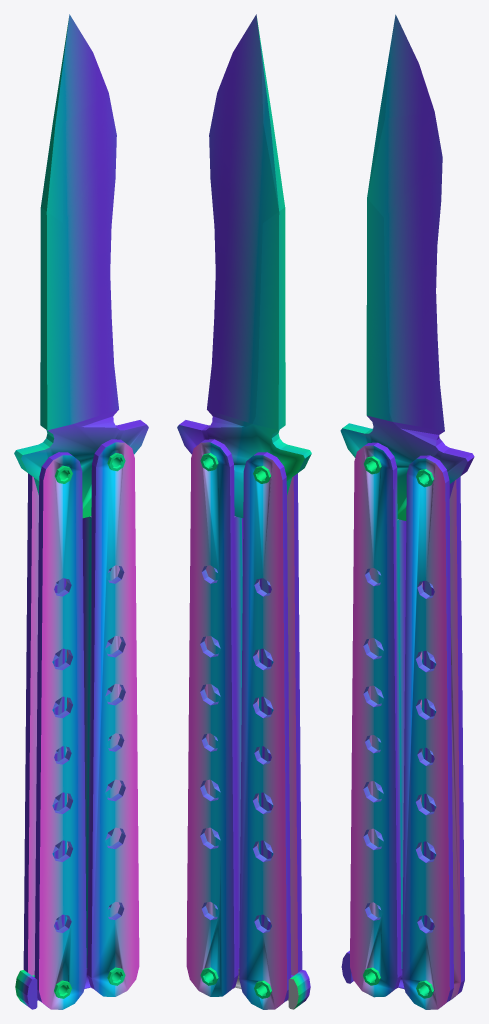
The model's file is butterfly.fbx.
3 views of the same model, side by side, from view 1: azimuth 30°, elevation 25°; view 2: azimuth 150°, elevation 25°; view 3: azimuth 330°, elevation 25° (orthographic).
Visible parts, largest first — view 1: butterfly; view 2: butterfly; view 3: butterfly.
Part boxes in pixels (box(x1,y1,x2,y2)): butterfly: box(14, 14, 148, 1009); butterfly: box(177, 14, 311, 1009); butterfly: box(340, 14, 474, 1009).
Bounding box in the file's own units: 0.2417 × 1.78 × 0.0629.
1 material, 1 textured.
